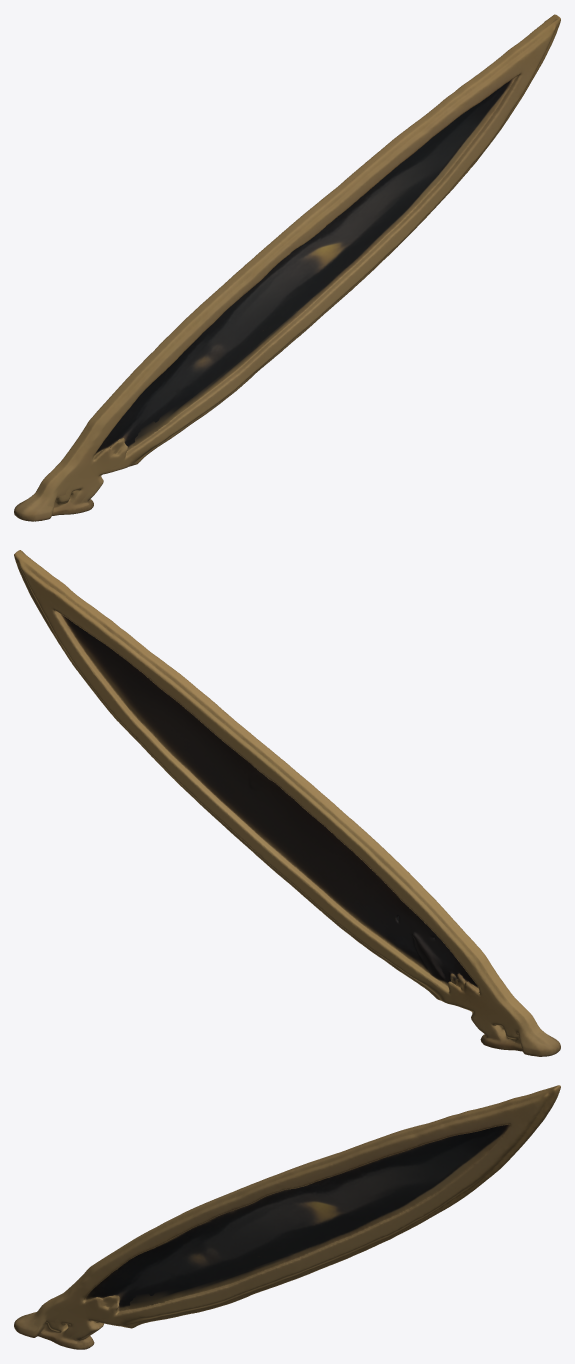
Rendered from ear_single_ref-11.glb.
The picture shows the model from 3 angles, top to bottom: view 1: azimuth 30°, elevation 25°; view 2: azimuth 150°, elevation 25°; view 3: azimuth 330°, elevation 25°; orthographic projection.
Size of the model in its own units: 1 by 0.6631 by 0.055.
Materials: 1 (1 with a texture image).
